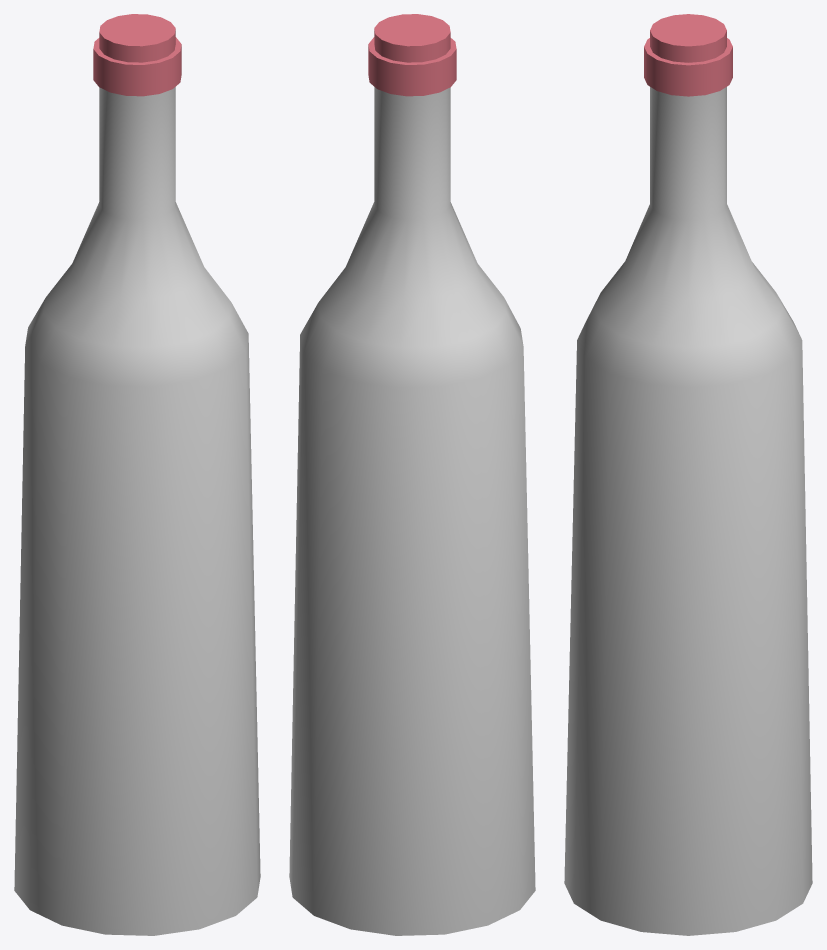
File: BottleClearSkinny_Tavern.fbx
3 views of the same model, side by side, from view 1: azimuth 30°, elevation 25°; view 2: azimuth 150°, elevation 25°; view 3: azimuth 270°, elevation 25° (orthographic).
Visible parts, largest first — view 1: BottleClearSkinny_Tavern; view 2: BottleClearSkinny_Tavern; view 3: BottleClearSkinny_Tavern.
Boxes of the visible parts, left/top/right/bottom form: BottleClearSkinny_Tavern: left=14, top=14, right=260, bottom=935; BottleClearSkinny_Tavern: left=289, top=14, right=535, bottom=935; BottleClearSkinny_Tavern: left=564, top=14, right=812, bottom=935.
Bounding box in the file's own units: 12.18 × 46.21 × 12.18.
